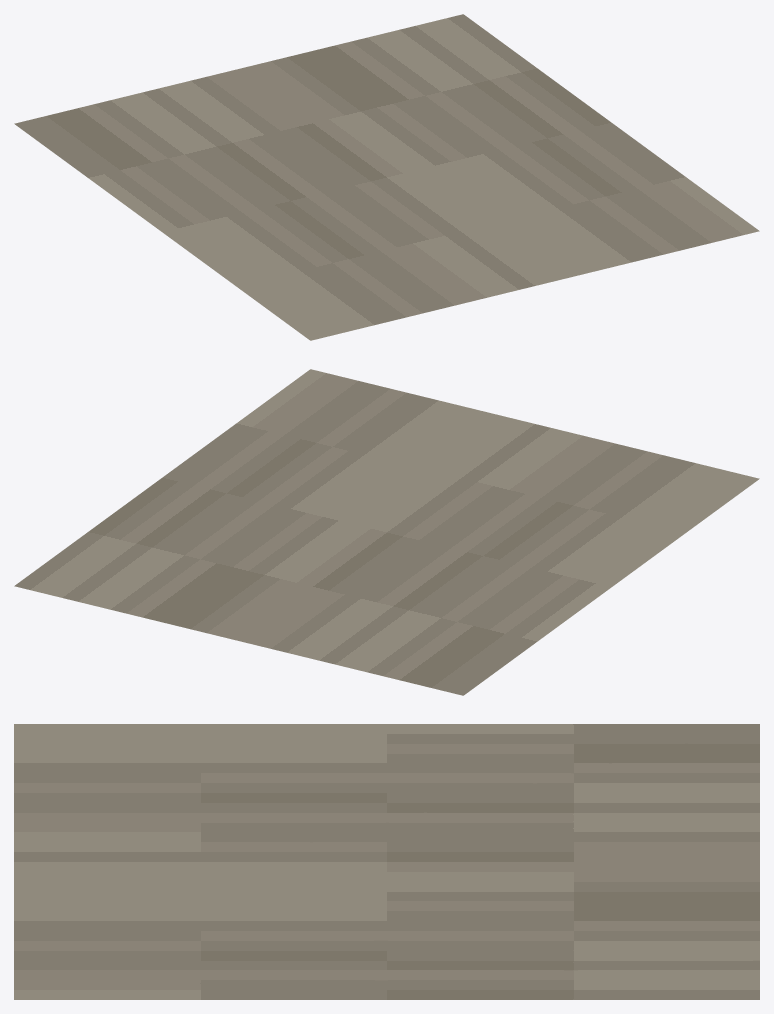
The picture shows the model from 3 angles, top to bottom: view 1: azimuth 30°, elevation 25°; view 2: azimuth 150°, elevation 25°; view 3: azimuth 270°, elevation 25°; orthographic projection. The views are drawn at different scales.
Bounding box in the file's own units: 0.875 × 0 × 1.
1 material, 1 textured.
